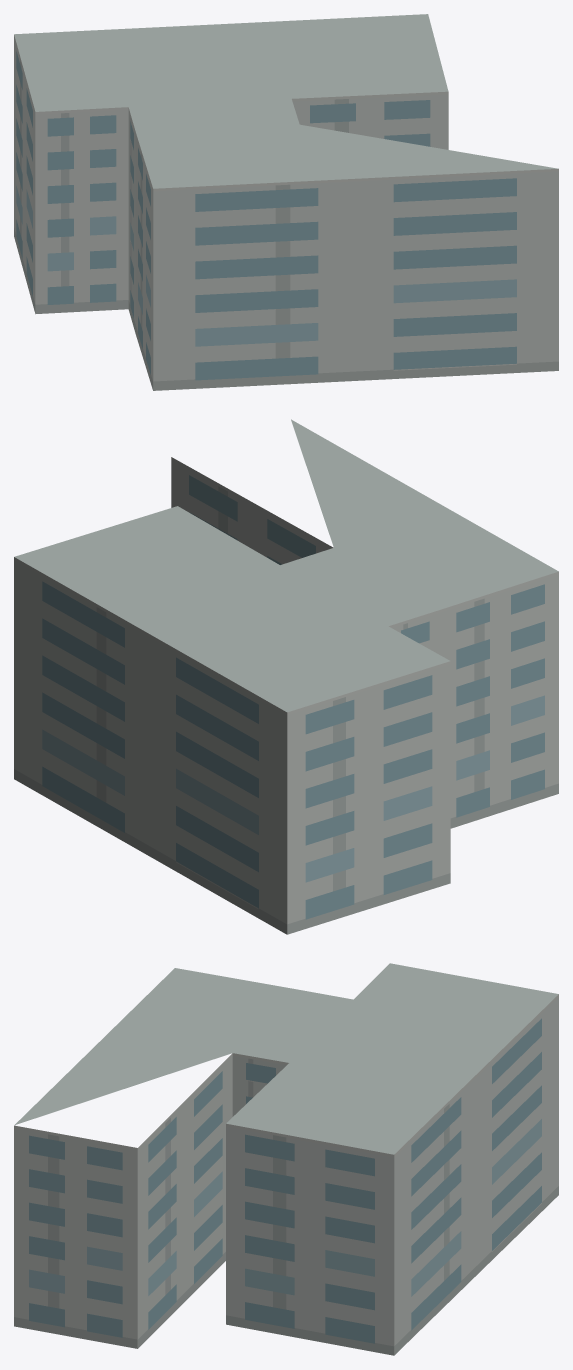
Rendered from survey-upis-32846766.glb.
The picture shows the model from 3 angles, top to bottom: view 1: azimuth 30°, elevation 25°; view 2: azimuth 150°, elevation 25°; view 3: azimuth 270°, elevation 25°; orthographic projection. The views are drawn at different scales.
Parts seen in each view (by area): view 1: survey-upis-32846766.tmp; view 2: survey-upis-32846766.tmp; view 3: survey-upis-32846766.tmp.
Boxes of the visible parts, x1,y1,x2,y2 form: survey-upis-32846766.tmp: (14, 14, 558, 390); survey-upis-32846766.tmp: (14, 419, 558, 934); survey-upis-32846766.tmp: (14, 963, 558, 1355).
Size of the model in its own units: 37.42 by 18.3 by 44.98.
